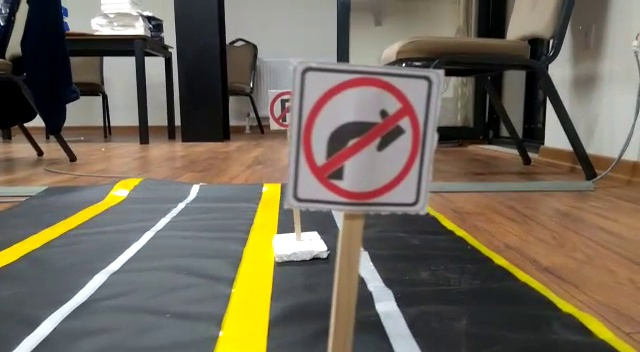saga_donulmez: (300, 68, 424, 205)
